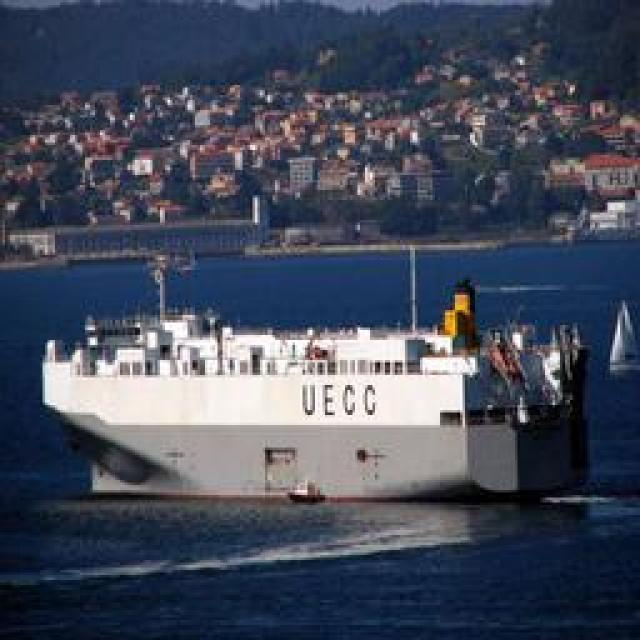CIV_Ship: (30, 250, 612, 502)
